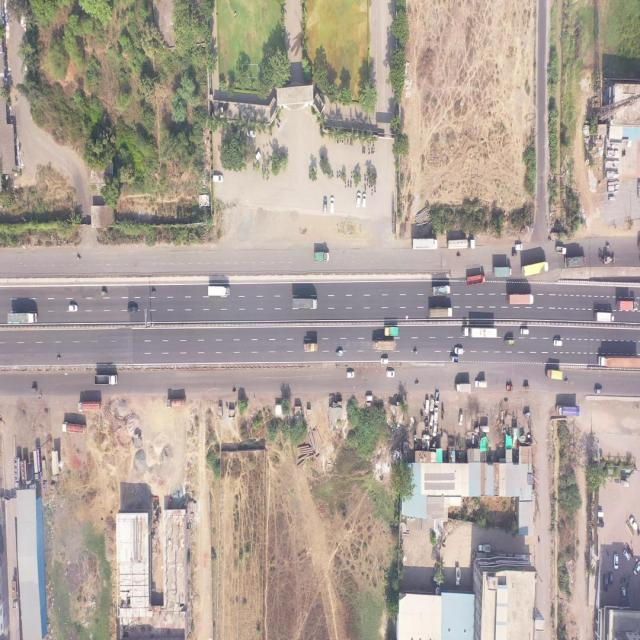3W: (522, 409, 532, 418), (100, 290, 108, 297), (506, 384, 513, 392), (31, 386, 37, 393), (523, 385, 530, 390), (512, 252, 517, 258)
Cars: (622, 546, 631, 562), (612, 553, 620, 569), (246, 128, 256, 140), (329, 196, 335, 215), (212, 174, 224, 183), (126, 304, 138, 313), (620, 584, 626, 602), (633, 561, 640, 576), (254, 151, 262, 164), (603, 576, 609, 593), (347, 368, 356, 379), (68, 304, 79, 313), (322, 197, 327, 215), (458, 412, 464, 426), (520, 328, 529, 337), (362, 193, 367, 209), (454, 346, 463, 354), (356, 192, 360, 208), (430, 396, 434, 412), (553, 339, 562, 346), (425, 399, 429, 414), (429, 414, 434, 426), (515, 243, 522, 251), (594, 388, 603, 394), (435, 406, 438, 422)
LCV: (493, 540, 508, 552), (471, 563, 478, 586), (474, 380, 488, 388), (555, 245, 567, 254), (450, 355, 459, 365)
M2W: (415, 379, 421, 386), (564, 378, 569, 386), (76, 256, 82, 262), (232, 387, 237, 394), (605, 242, 610, 249), (56, 355, 61, 361), (151, 289, 157, 294), (413, 349, 418, 355), (350, 171, 353, 180), (363, 172, 366, 181), (331, 170, 334, 178), (346, 138, 349, 145), (336, 170, 338, 180), (374, 185, 376, 195), (456, 254, 461, 258), (347, 180, 349, 189), (364, 146, 366, 155), (373, 147, 375, 156), (264, 165, 266, 174), (368, 147, 370, 156), (340, 171, 342, 180), (344, 182, 346, 189), (342, 138, 344, 144), (350, 182, 352, 188)
MAV: (596, 353, 640, 368), (462, 326, 497, 339), (446, 237, 476, 250)
Truck: (521, 261, 550, 276), (6, 310, 38, 323), (508, 292, 534, 306), (62, 421, 86, 436), (411, 237, 438, 250), (292, 298, 318, 311), (93, 373, 119, 386), (428, 304, 453, 317), (78, 400, 102, 413), (555, 404, 580, 416), (564, 256, 587, 269), (594, 309, 615, 323), (616, 299, 639, 311), (466, 273, 486, 286), (493, 265, 513, 278), (372, 340, 397, 350), (166, 397, 185, 410), (208, 286, 230, 297), (313, 249, 329, 263), (546, 368, 564, 380), (432, 285, 451, 296), (384, 326, 399, 337), (304, 341, 318, 352), (455, 383, 472, 392), (504, 338, 516, 346), (386, 369, 395, 378), (381, 357, 388, 365)
